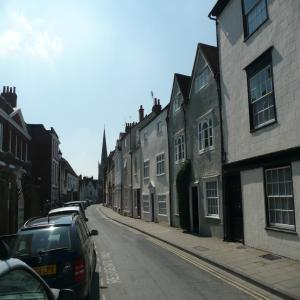Vehicle-registration-plate: (32, 265, 57, 277)
